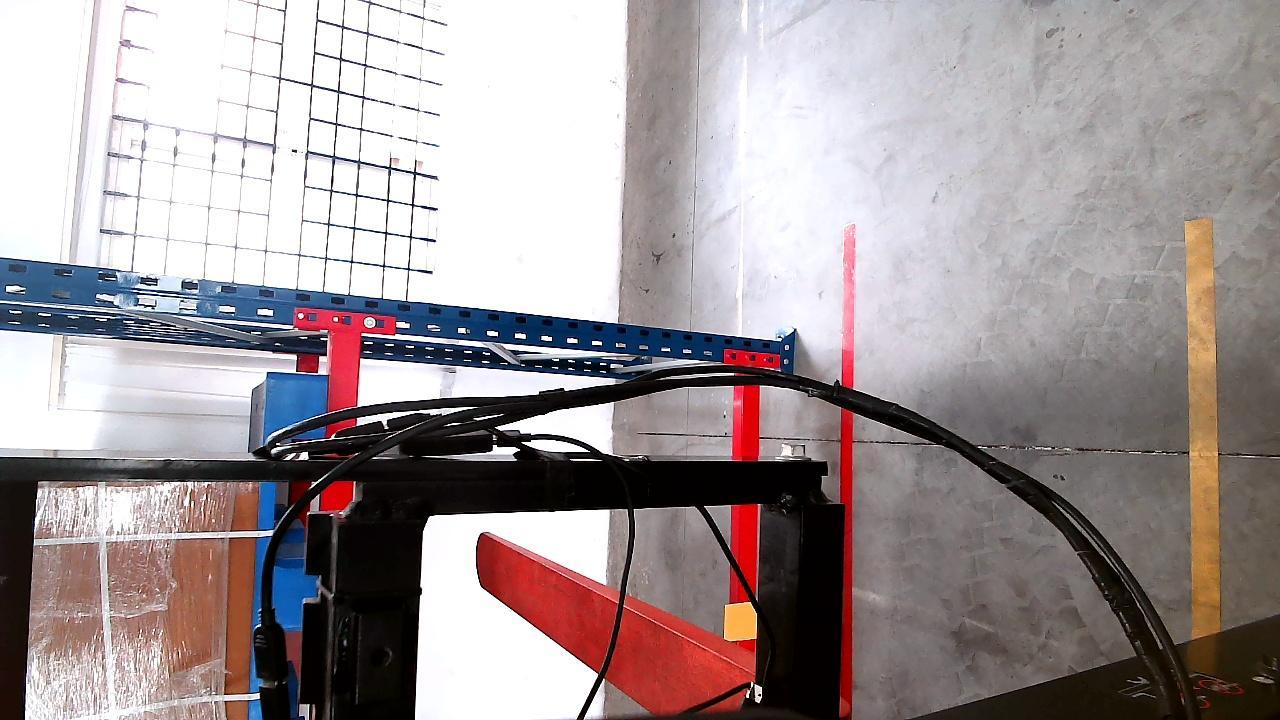red_line: (840, 225, 858, 501)
yellow_line: (1187, 212, 1223, 654)
